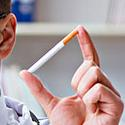smoke: (28, 29, 79, 74)
